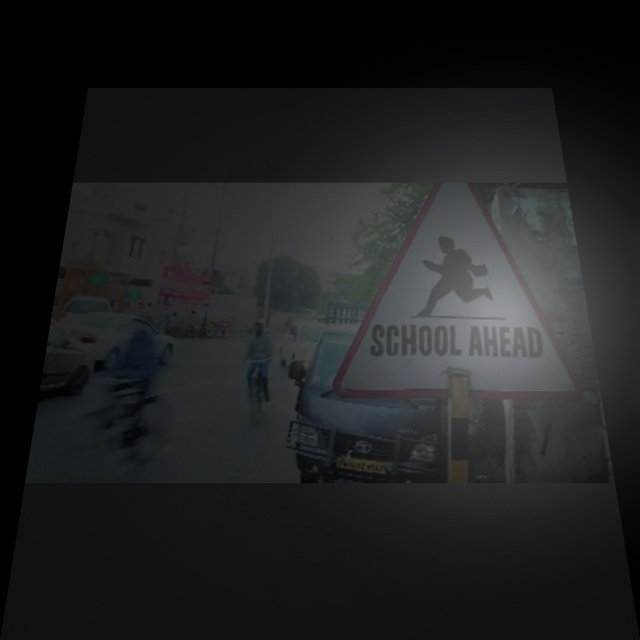School_Ahead: (354, 201, 564, 377)
